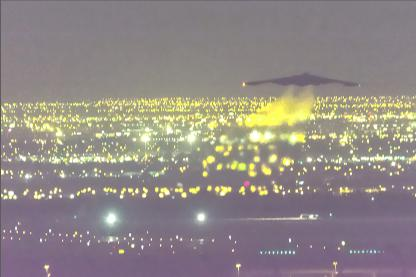B1: (240, 72, 364, 86)
